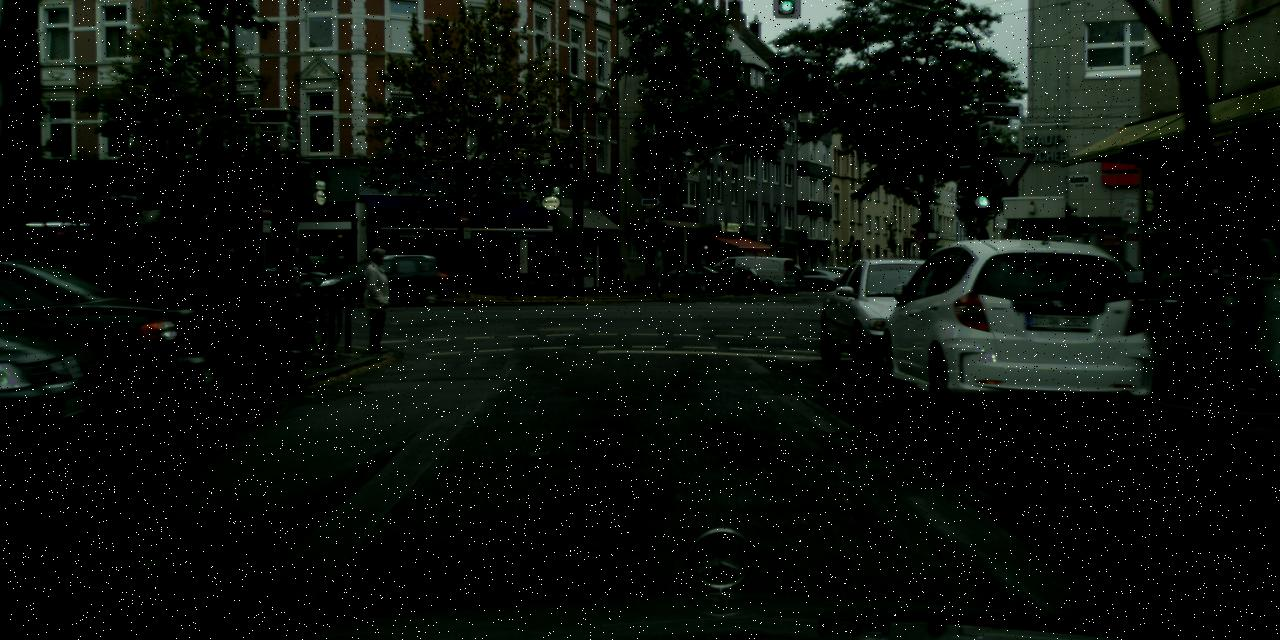ped: (354, 248, 397, 352), (1250, 218, 1279, 343), (439, 249, 454, 289), (613, 257, 627, 291), (674, 257, 687, 291)
